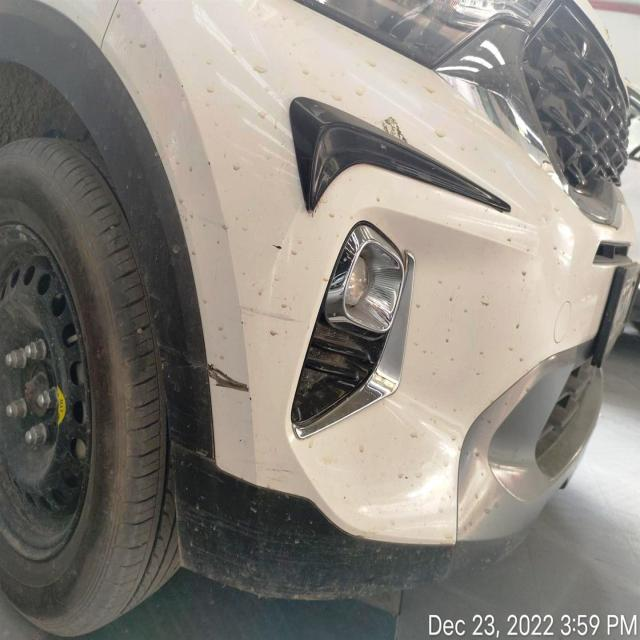damage: (207, 362, 250, 393), (377, 116, 407, 141)
